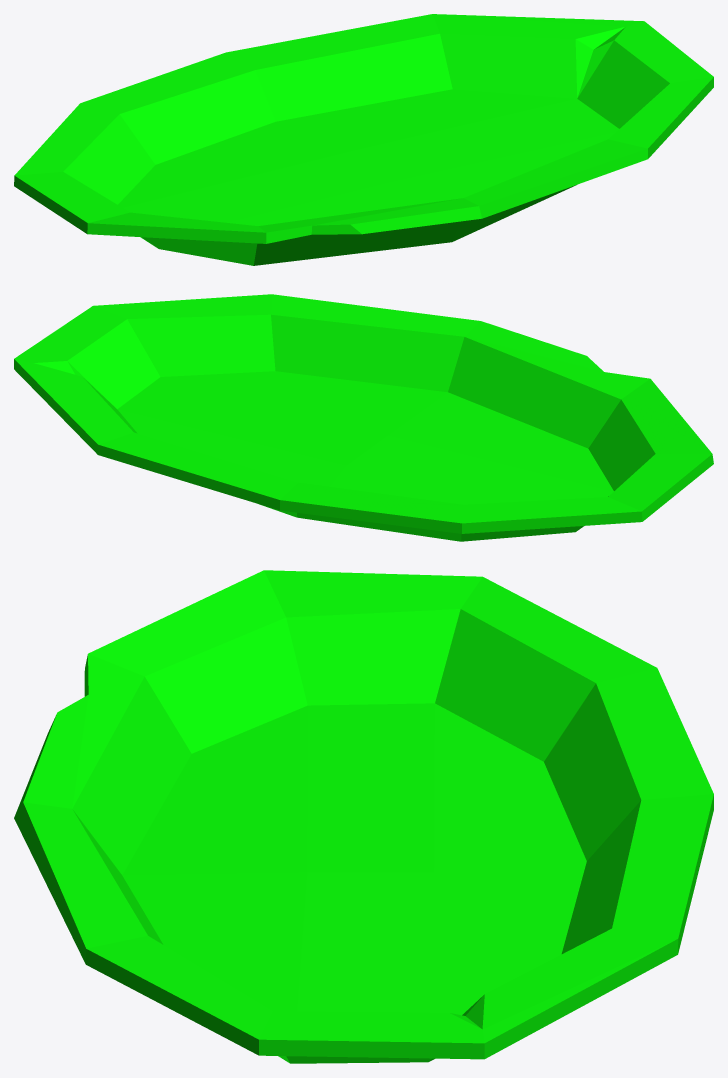
The model's file is SM_Plate_Pewter_Tray_A.fbx.
3 renders of one model, top to bottom at view 1: azimuth 30°, elevation 25°; view 2: azimuth 150°, elevation 25°; view 3: azimuth 270°, elevation 25°, orthographic. The views are drawn at different scales.
Parts seen in each view (by area): view 1: plate-pewter-tray-a; view 2: plate-pewter-tray-a; view 3: plate-pewter-tray-a.
Boxes of the visible parts, box(x1,y1,x2,y2) form: plate-pewter-tray-a: box(14, 14, 713, 265); plate-pewter-tray-a: box(14, 294, 713, 541); plate-pewter-tray-a: box(14, 570, 713, 1063).
Size of the model in its own units: 0.3441 by 0.0319 by 0.2179.
